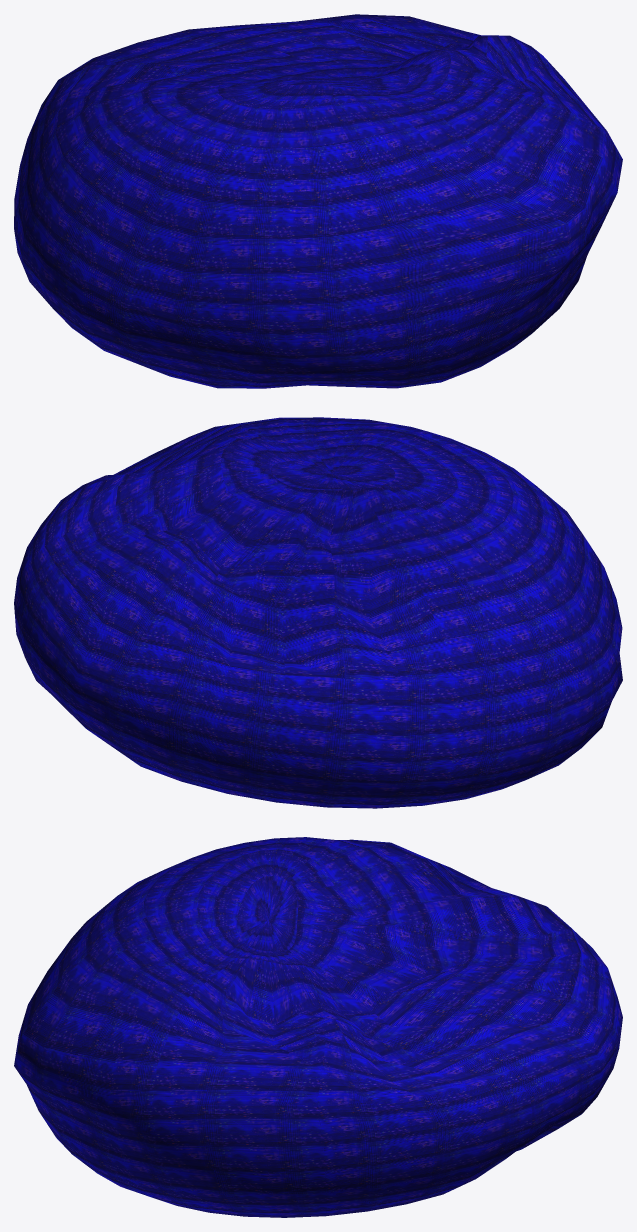
The model's file is bean bag.glb.
3 views of the same model, one above another, from view 1: azimuth 30°, elevation 25°; view 2: azimuth 150°, elevation 25°; view 3: azimuth 270°, elevation 25° (orthographic). The views are drawn at different scales.
Parts seen in each view (by area): view 1: Sphere.008; view 2: Sphere.008; view 3: Sphere.008.
Boxes of the visible parts, <box> form: Sphere.008: <box>14,14,622,388</box>; Sphere.008: <box>14,417,622,808</box>; Sphere.008: <box>14,837,622,1217</box>.
Size of the model in its own units: 1.67 by 0.795 by 1.7.
1 material, 1 textured.
